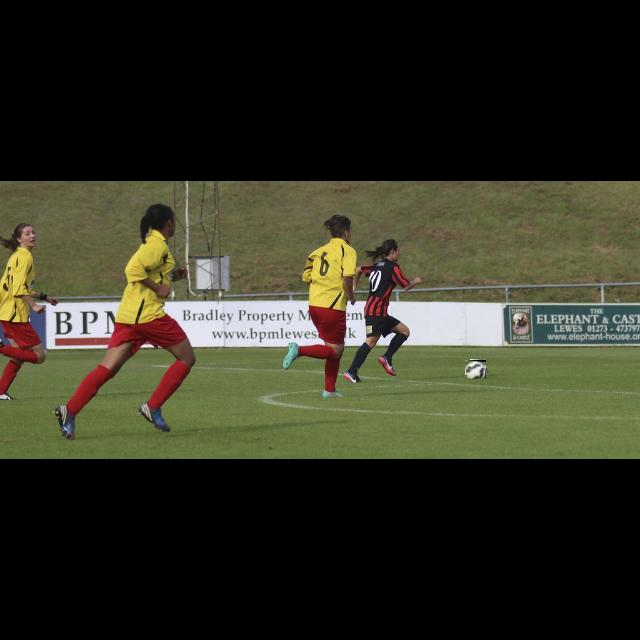Football: (466, 360, 486, 378)
